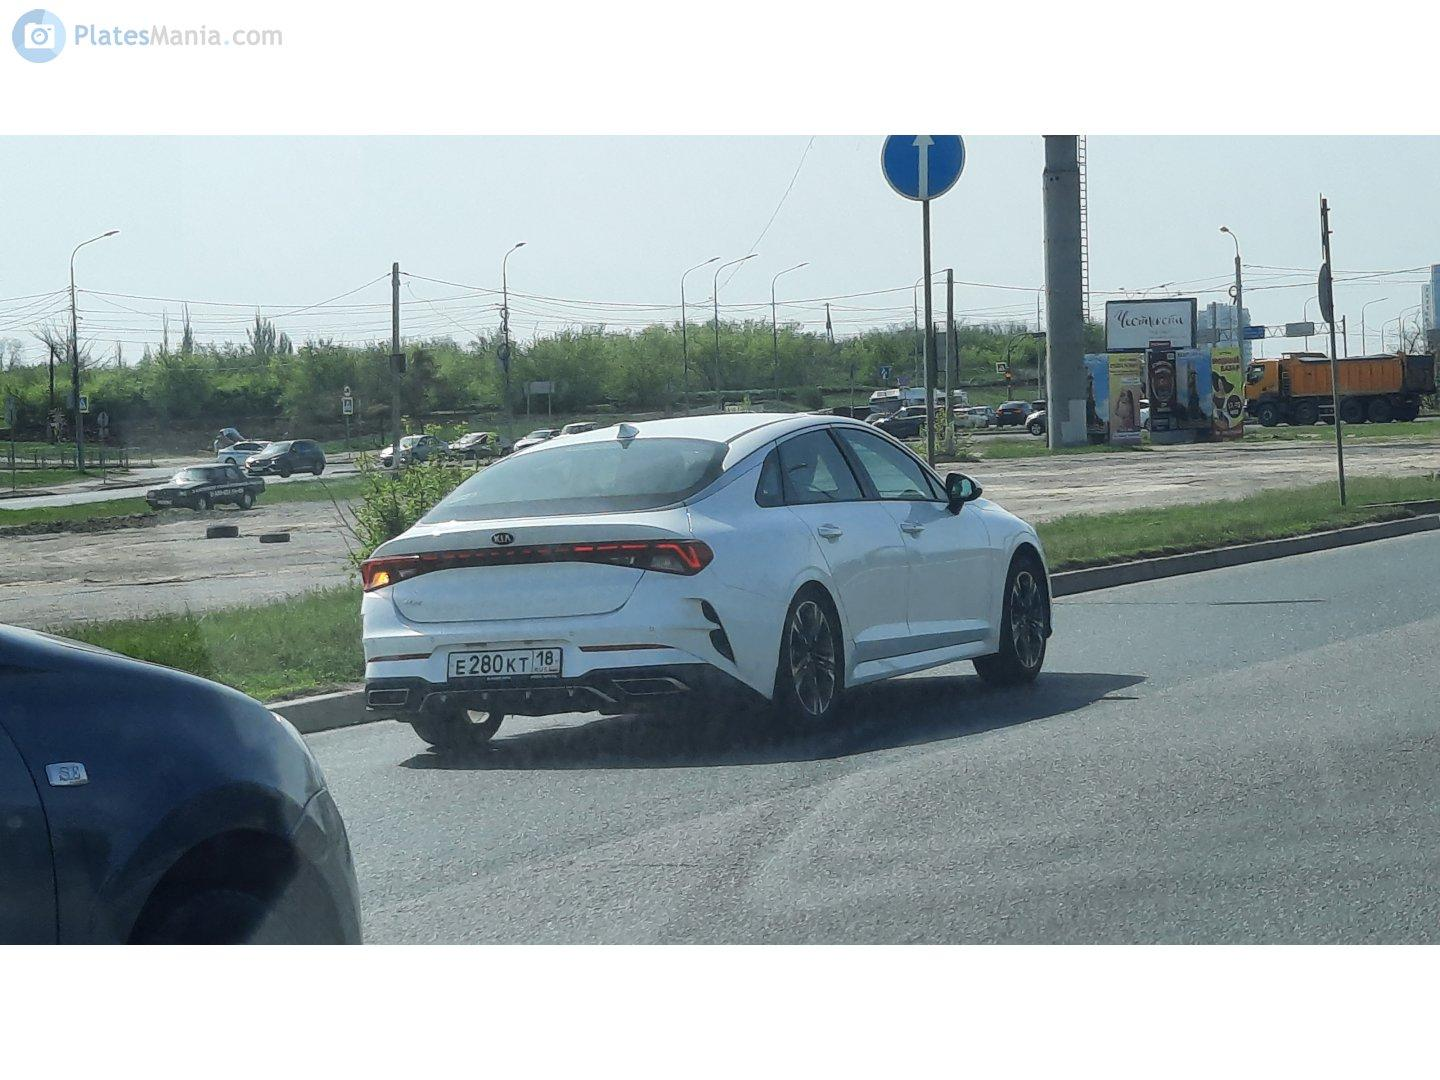license-plateSW: (448, 650, 559, 676)
